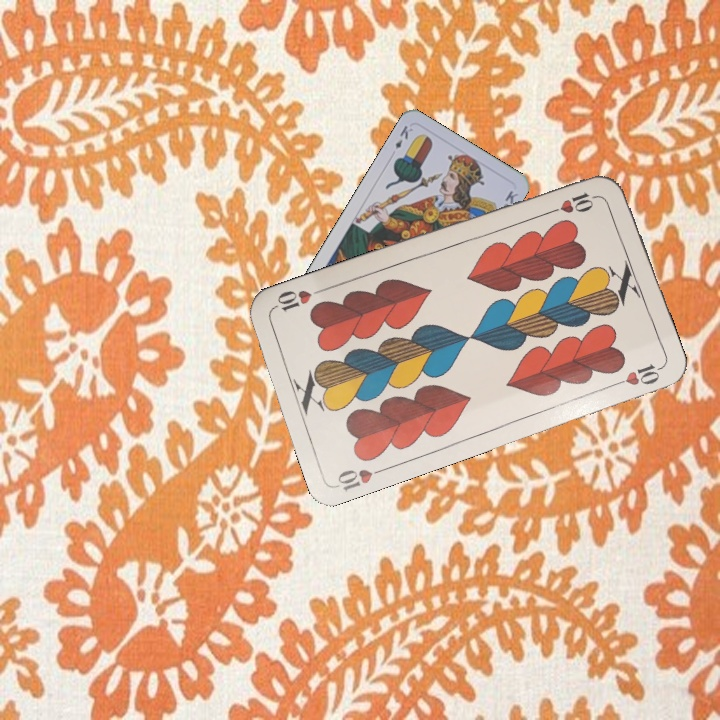EK: (391, 121, 415, 152)
H10: (333, 463, 390, 493), (544, 188, 601, 217)
